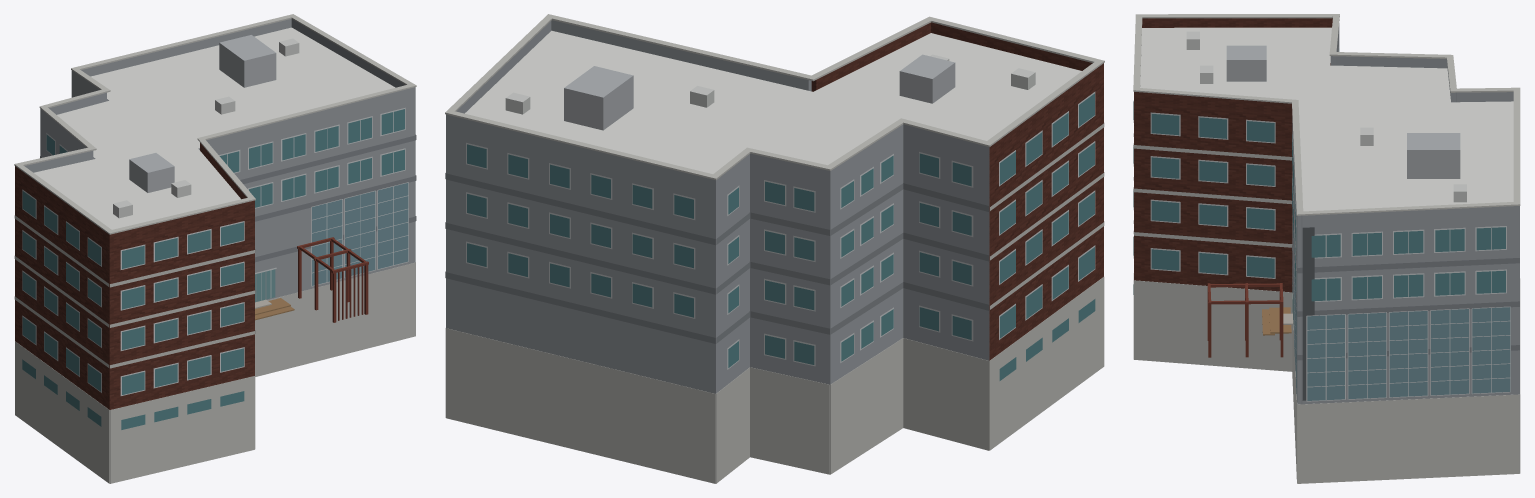
3 renders of one model, left to right at view 1: azimuth 30°, elevation 25°; view 2: azimuth 150°, elevation 25°; view 3: azimuth 270°, elevation 25°, orthographic. The views are drawn at different scales.
Visible parts, largest first — view 1: w451562712__foundation-wall, w451562712__brick-wall, w451562712__roof, w451562712__metal-wall, w451562712__glass, w451562712__frame, w451562712__curtain-glass, w451562712__coping-stone, w451562712__box-wall, w451562712__steel-frame, w451562712__metal-band-wall, w451562712__ac (+2 smaller); view 2: w451562712__metal-wall, w451562712__foundation-wall, w451562712__roof, w451562712__glass, w451562712__brick-wall, w451562712__metal-band-wall, w451562712__coping-stone, w451562712__frame, w451562712__box-wall, w451562712__ac; view 3: w451562712__roof, w451562712__foundation-wall, w451562712__brick-wall, w451562712__metal-wall, w451562712__curtain-glass, w451562712__glass, w451562712__frame, w451562712__coping-stone, w451562712__box-wall, w451562712__metal-band-wall, w451562712__steel-frame, w451562712__louver (+2 smaller).
Boxes of the visible parts, x1,y1,x2,y2 form: w451562712__foundation-wall: (14,215,415,483); w451562712__brick-wall: (15,143,254,409); w451562712__roof: (34,27,395,229); w451562712__metal-wall: (24,19,415,301); w451562712__glass: (22,109,404,429); w451562712__frame: (22,107,408,395); w451562712__curtain-glass: (312,183,408,285); w451562712__coping-stone: (14,14,416,234); w451562712__box-wall: (129,35,276,192); w451562712__steel-frame: (297,237,368,322); w451562712__metal-band-wall: (40,135,416,262); w451562712__ac: (113,38,299,218); w451562712__metal-wall: (446,20,989,393); w451562712__foundation-wall: (445,123,1104,483); w451562712__roof: (465,30,1081,173); w451562712__glass: (467,93,1095,380); w451562712__brick-wall: (811,22,1103,360); w451562712__metal-band-wall: (445,173,988,343); w451562712__coping-stone: (445,14,1104,180); w451562712__frame: (466,91,1095,369); w451562712__box-wall: (564,54,955,130); w451562712__ac: (505,54,1035,114); w451562712__roof: (1140,27,1513,211); w451562712__foundation-wall: (1133,133,1520,483); w451562712__brick-wall: (1134,18,1332,292); w451562712__metal-wall: (1292,25,1519,404); w451562712__curtain-glass: (1294,264,1510,400); w451562712__glass: (1133,48,1505,301); w451562712__frame: (1133,47,1510,401); w451562712__coping-stone: (1133,14,1520,215); w451562712__box-wall: (1226,45,1460,178); w451562712__metal-band-wall: (1292,158,1519,360); w451562712__steel-frame: (1207,283,1283,357); w451562712__louver: (1302,227,1314,400).
Bounding box in the file's own units: 35.55 × 23.76 × 29.01.
16 materials, 1 textured.
